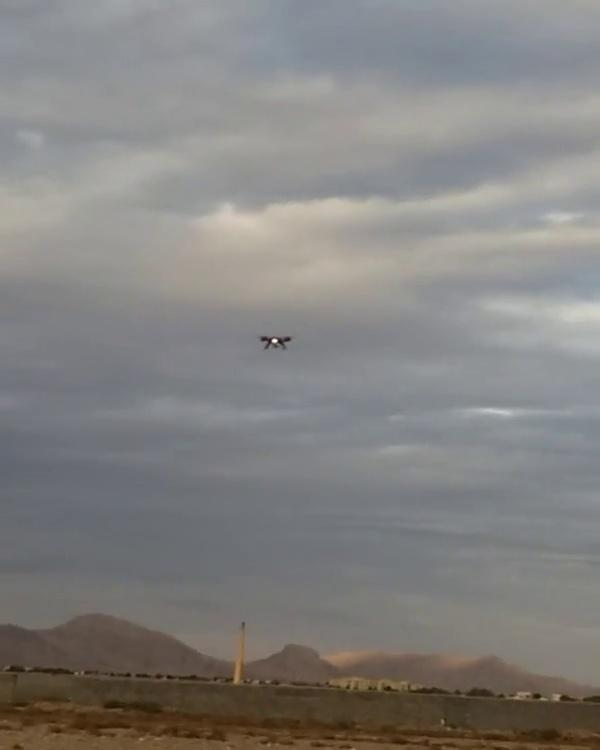drone: (253, 329, 297, 355)
